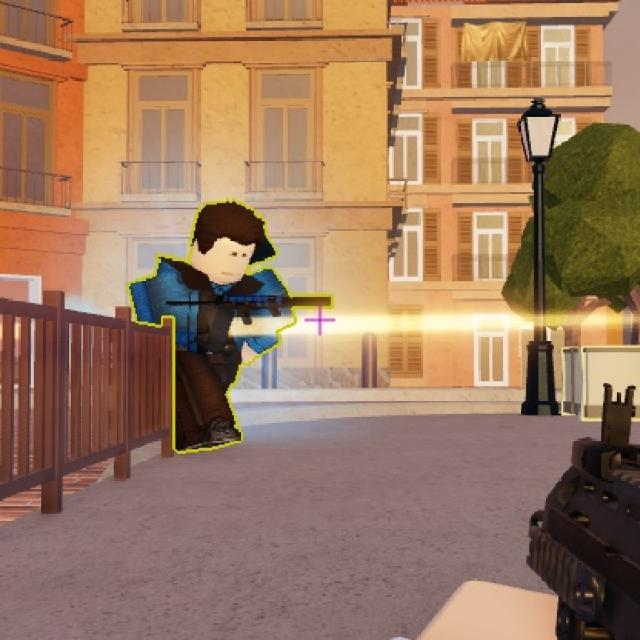player: (128, 197, 312, 453)
